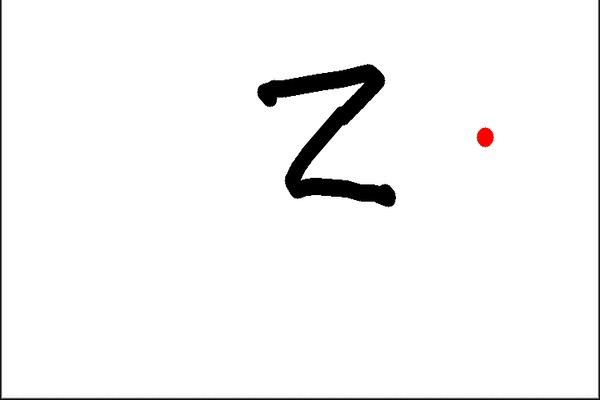Z: (252, 60, 410, 226)
